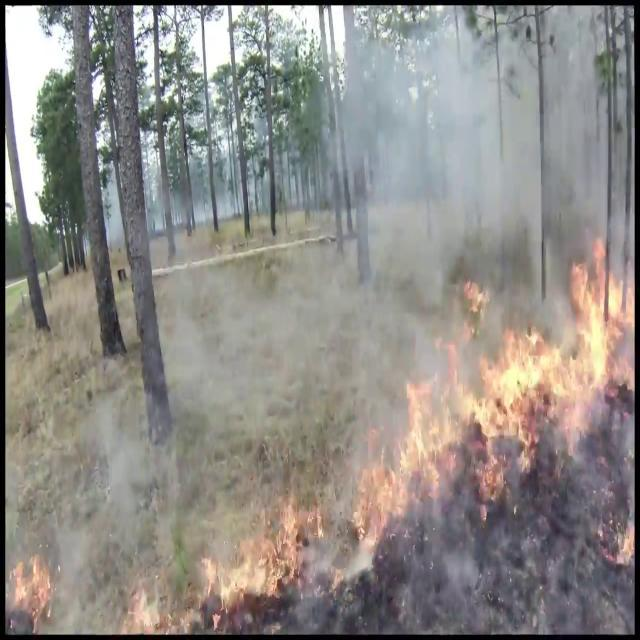Fire: (356, 234, 636, 586), (0, 550, 208, 640), (225, 470, 338, 600)
Smoke: (322, 5, 637, 360)
